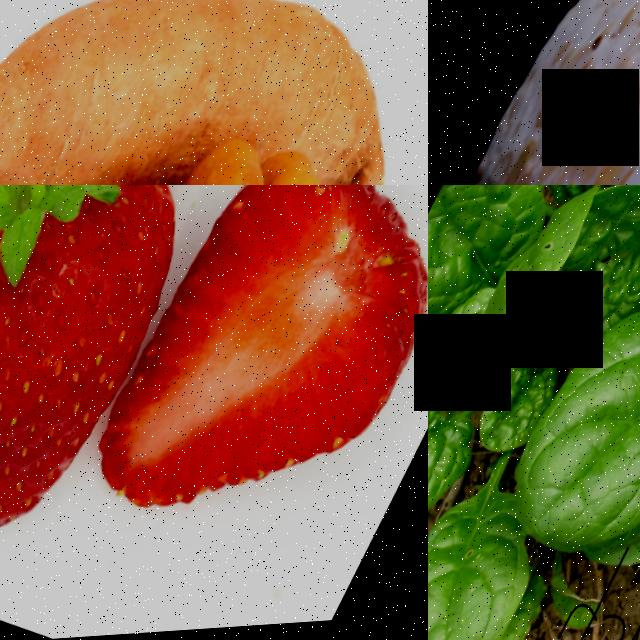spinach: (498, 294, 640, 587), (428, 185, 574, 350), (428, 500, 565, 640), (535, 185, 640, 354), (428, 359, 490, 603), (472, 345, 574, 466)
strawberry: (74, 185, 428, 588), (0, 185, 248, 563)
sweet potato: (178, 0, 428, 185), (0, 0, 229, 185)
tempeh: (428, 0, 640, 185)
